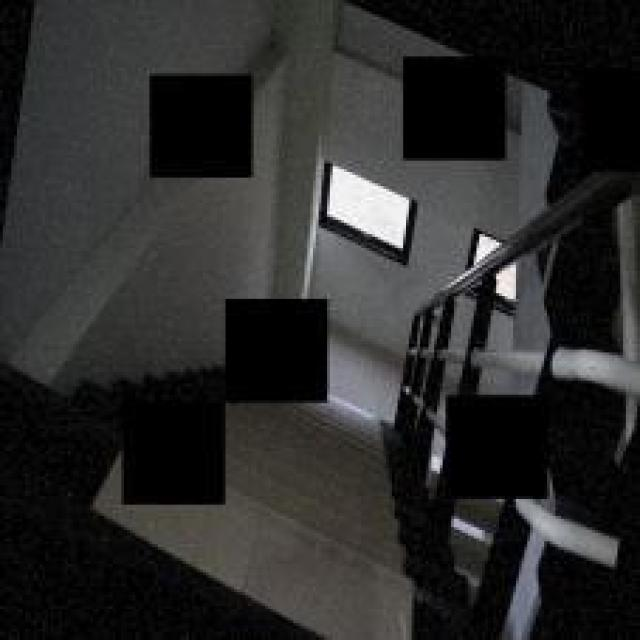downstair: (238, 404, 432, 638)
